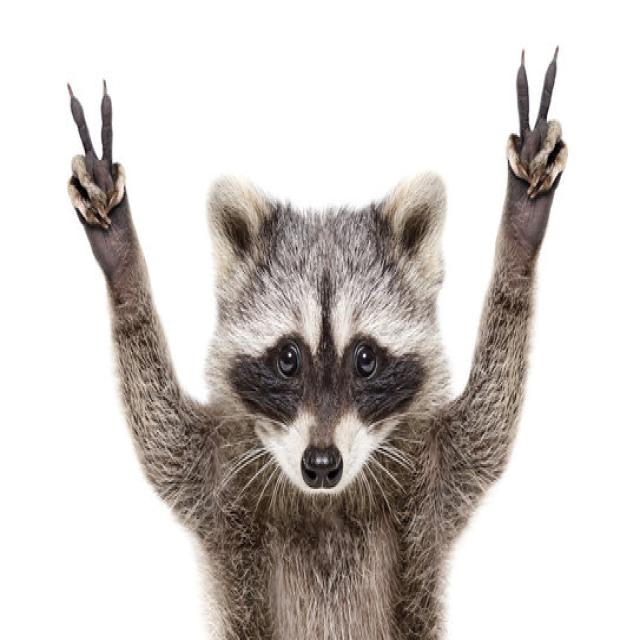Raccoon: (61, 49, 569, 640)
